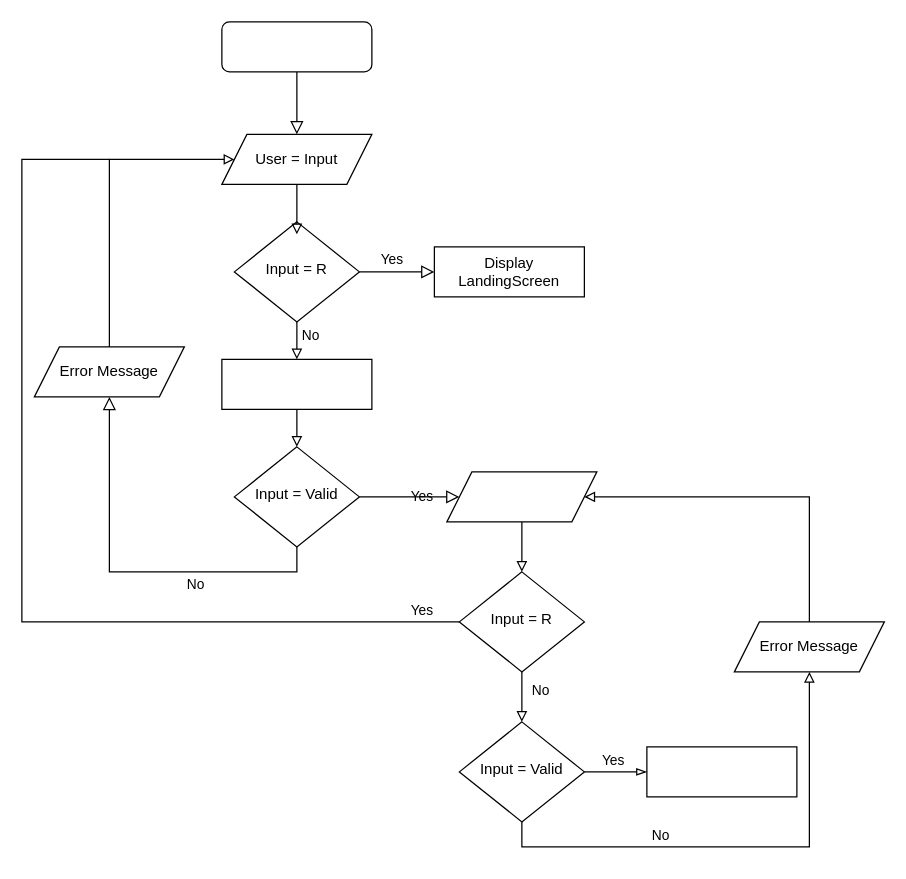
The diagram is 906 pixels wide and 879 high, and some of its shapes have lost their labels. The box of each missing label's shape, as (x1, y1, x2, y2) in pixels:
Display ManagerView: (646, 746, 797, 797)
PIN = Input: (446, 471, 597, 522)
Start: (221, 21, 372, 72)
Validate Input: (221, 358, 372, 409)
